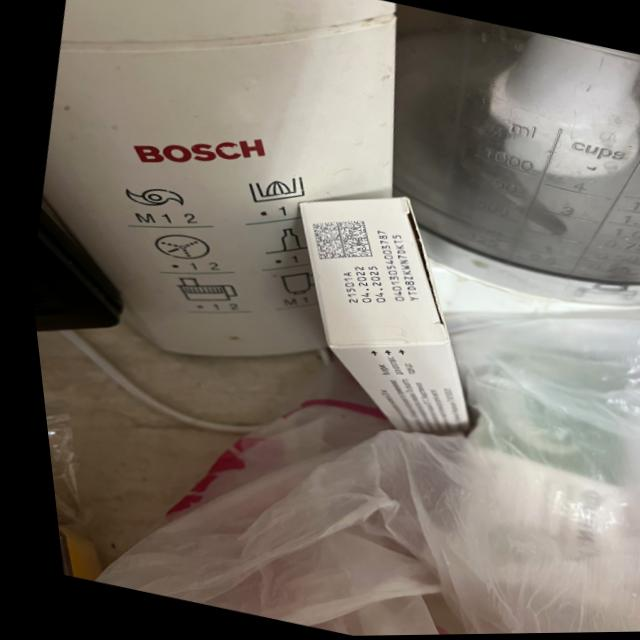datamatrix: (299, 211, 376, 273)
